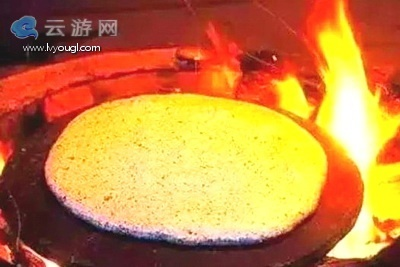fire: (309, 7, 400, 249), (191, 25, 246, 97), (269, 70, 315, 117)
